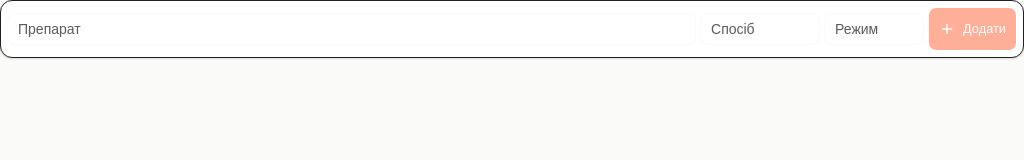
Scenario: MedicineSearchInput — «Додати» button enablement (in-progress list bug) › enables «Додати» once a drug name is typed, WITHOUT a dropdown click (bug repro)
// Type a name that IS in the catalog — but do NOT click a suggestion.
Type "Ondansetron" into the field with placeholder "Препарат" at (352,29), box [7,13,696,45]
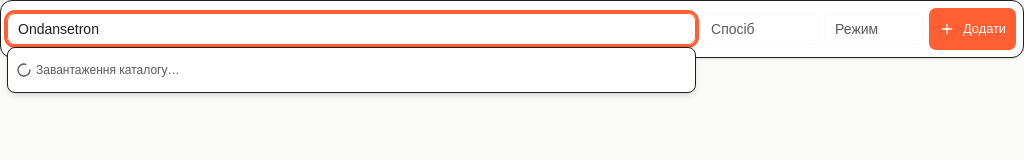
Result: the button "Додати" is enabled at [928,7,1017,51]
